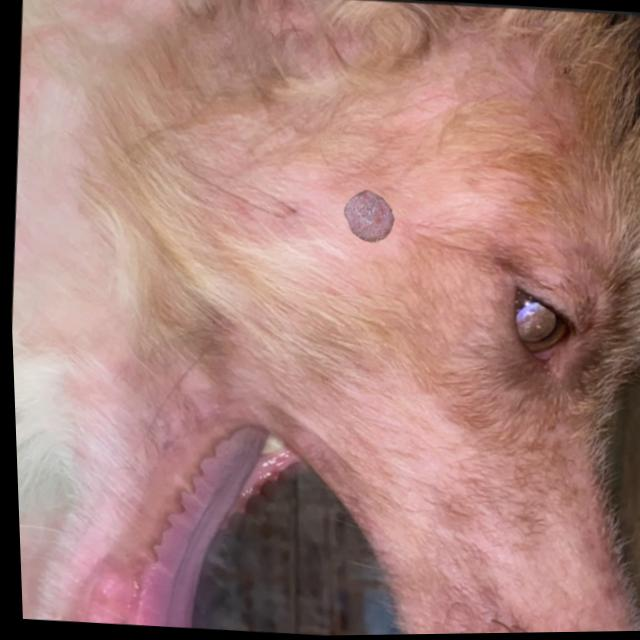ringworm: (301, 161, 419, 273)
